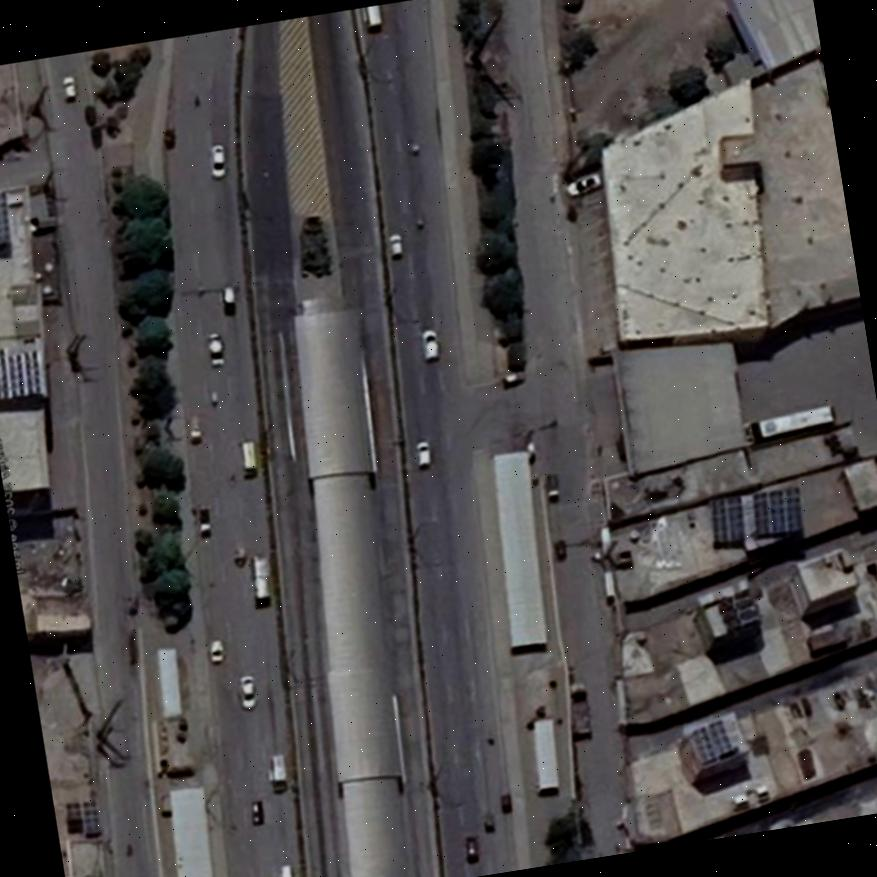Solarpanel: (754, 487, 804, 536), (711, 494, 745, 542), (696, 718, 729, 764), (0, 192, 10, 242)
